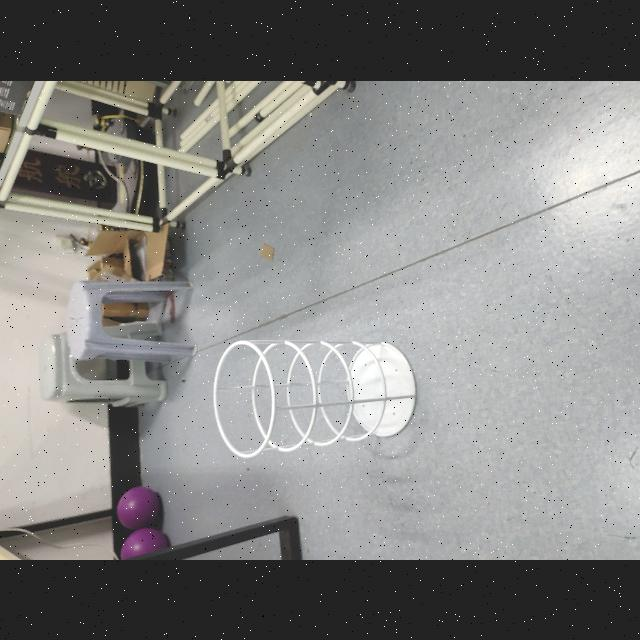S: (210, 334, 418, 460)
